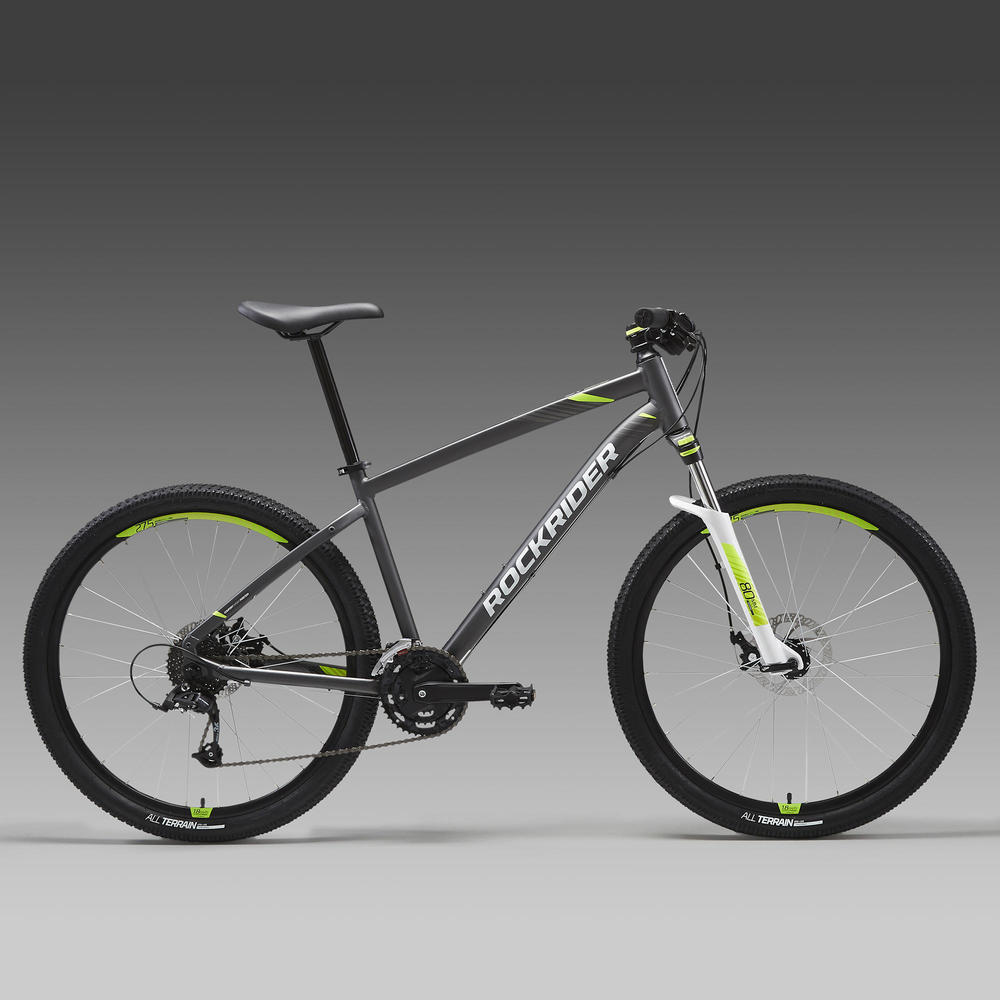MountainBike: (8, 289, 992, 866)
